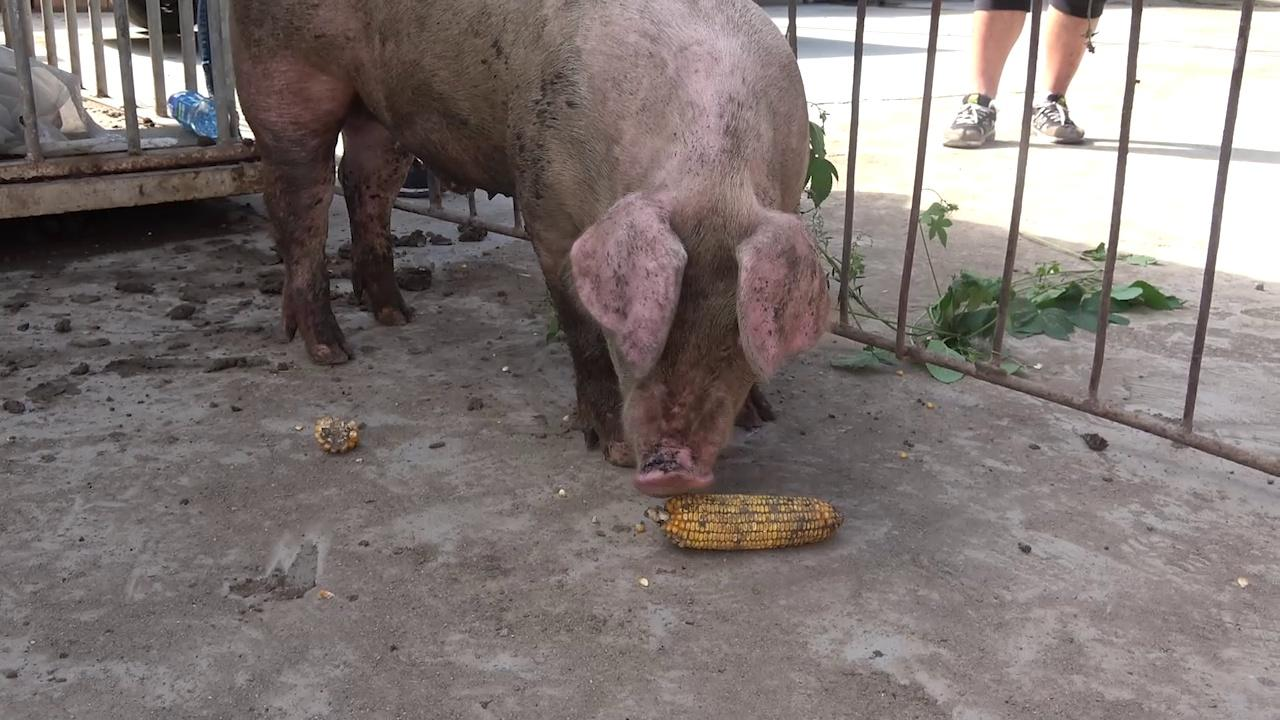Face: (565, 192, 840, 497)
